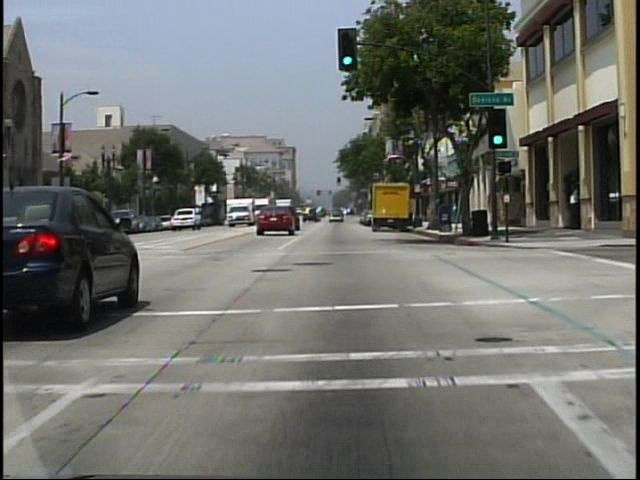person: (568, 190, 579, 230)
